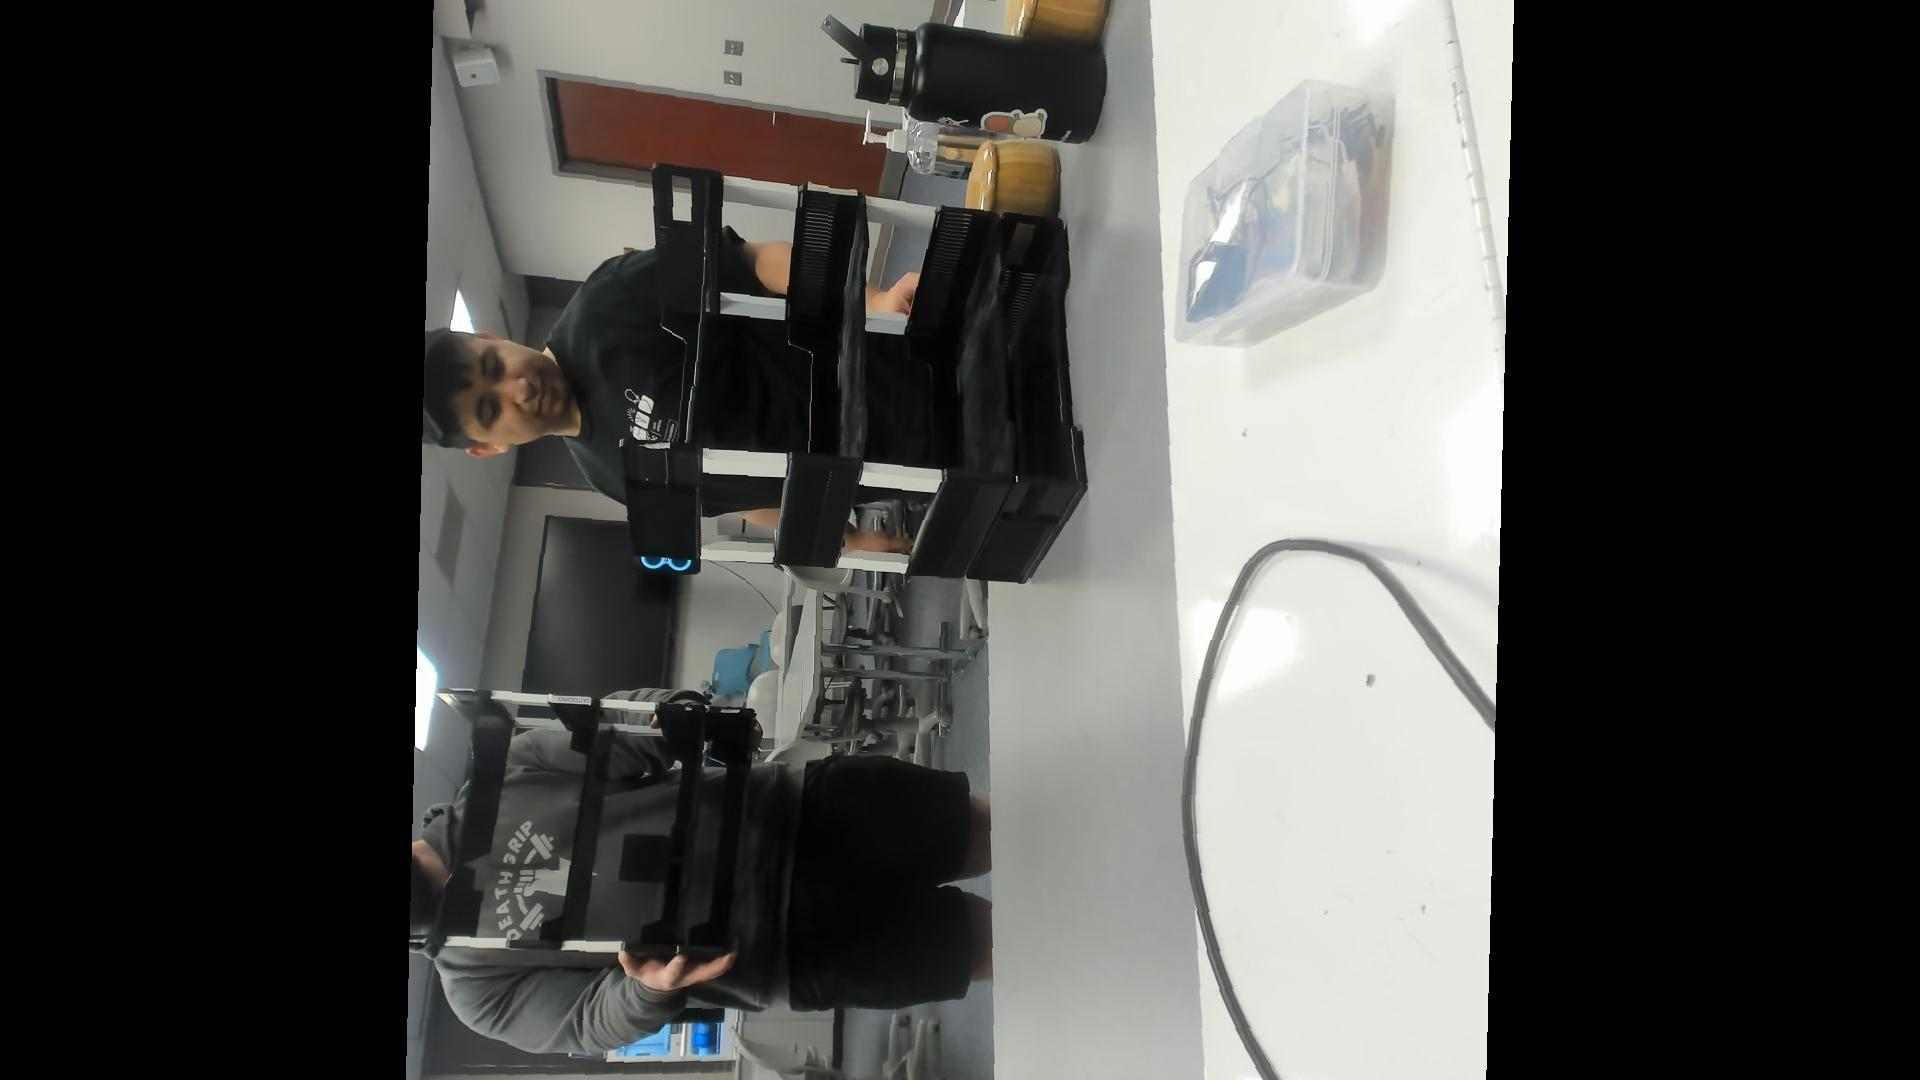black pallet: (612, 820, 694, 891)
